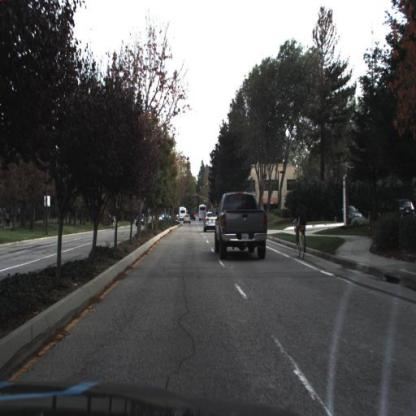biker: (293, 197, 310, 261)
car: (215, 190, 271, 264), (341, 202, 368, 227), (336, 203, 364, 224), (204, 209, 221, 234)
